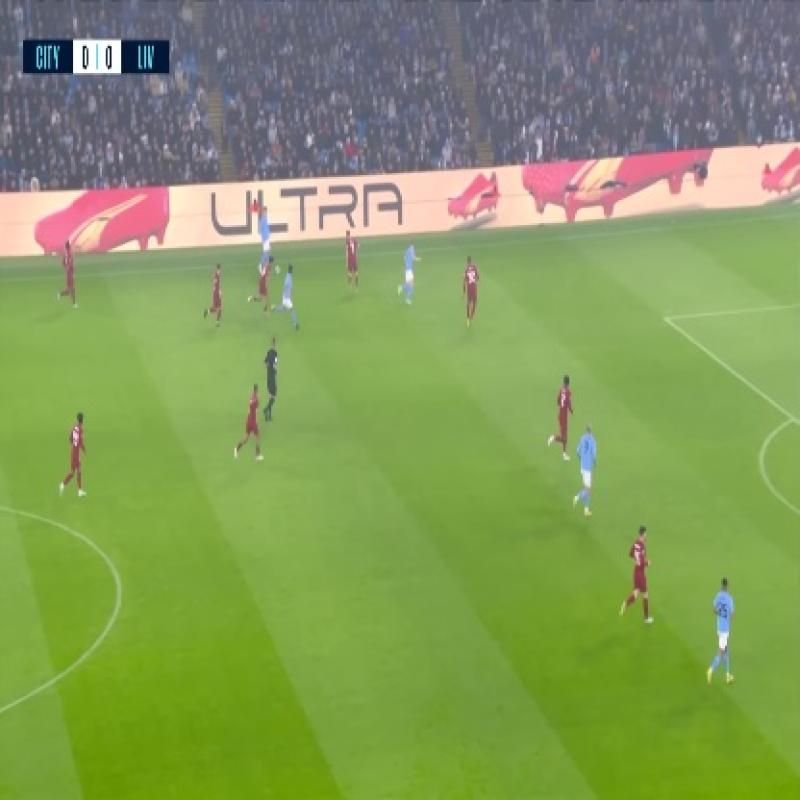10: (781, 400, 800, 435)
9: (650, 298, 679, 337)
c: (95, 552, 148, 616)
